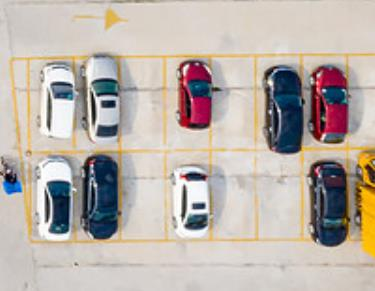car: (261, 64, 307, 157), (306, 159, 351, 248), (33, 156, 77, 241), (80, 54, 122, 142), (81, 154, 123, 241), (307, 64, 351, 146), (37, 62, 80, 142), (169, 164, 214, 239), (175, 58, 214, 133)
